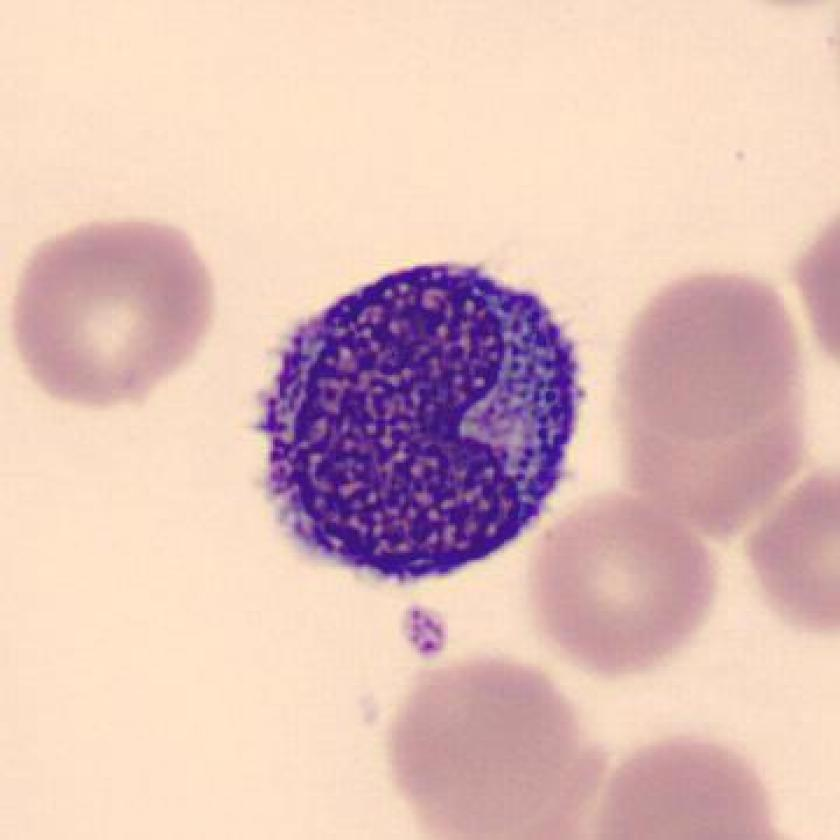monocyte: (237, 237, 605, 605)
